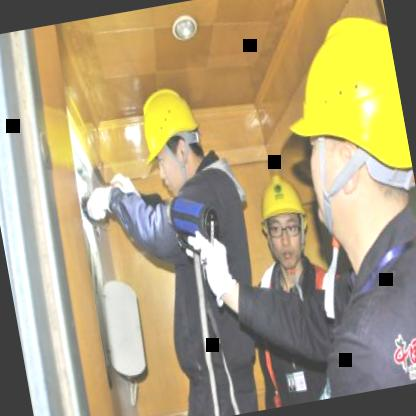helmet: (267, 1, 416, 279), (127, 76, 214, 203), (248, 161, 318, 273)
